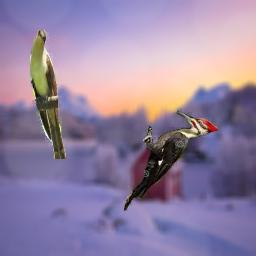Cuckoo: (30, 29, 66, 159)
Woodpecker: (124, 108, 218, 211)
